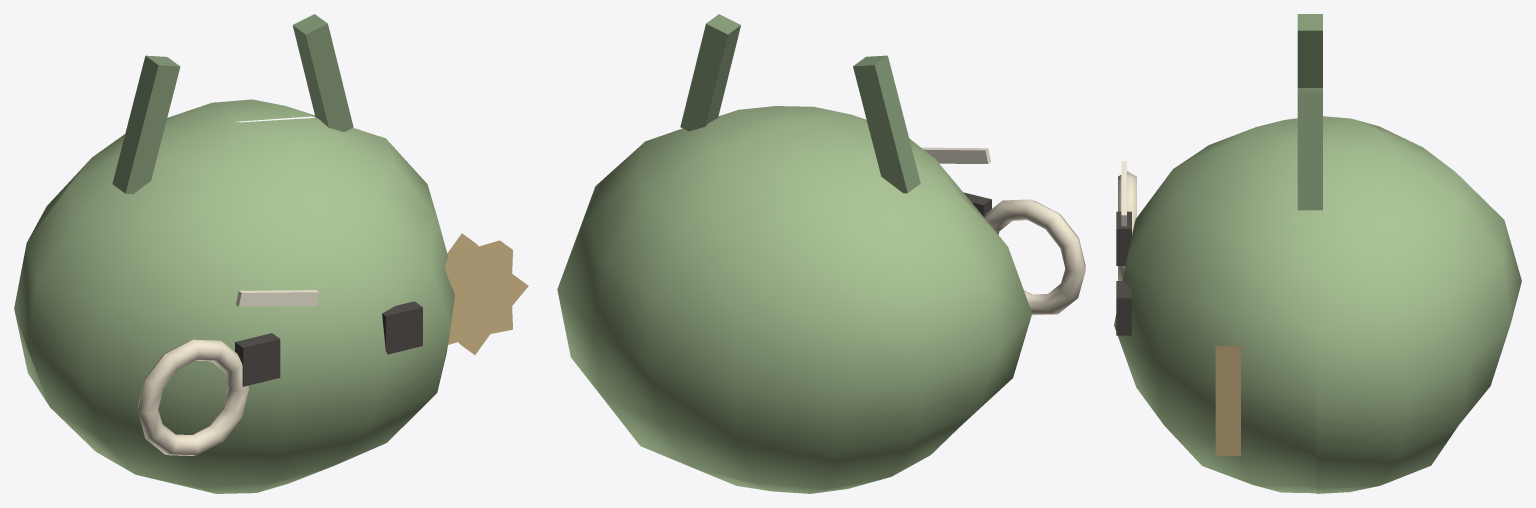
Rendered from mobile-clawd-gremlin.glb.
3 renders of one model, left to right at view 1: azimuth 30°, elevation 25°; view 2: azimuth 150°, elevation 25°; view 3: azimuth 270°, elevation 25°, orthographic. The views are drawn at different scales.
Visible parts, largest first — view 1: Body_Gremlin, Skill_RepoReader_Gear, Skill_ArticleXray_Lens, Antenna_Left, Antenna_Right, Eye_Left_Pixel, Eye_Right_Pixel, Clay_Fingerprint_Highlight; view 2: Body_Gremlin, Antenna_Left, Skill_ArticleXray_Lens, Antenna_Right, Clay_Fingerprint_Highlight; view 3: Body_Gremlin, Antenna_Right, Skill_RepoReader_Gear, Antenna_Left, Eye_Right_Pixel, Eye_Left_Pixel, Skill_ArticleXray_Lens.
Boxes of the visible parts, left/top/right/bottom form: Body_Gremlin: left=14, top=99, right=454, bottom=493; Skill_RepoReader_Gear: left=445, top=233, right=528, bottom=354; Skill_ArticleXray_Lens: left=138, top=339, right=248, bottom=455; Antenna_Left: left=112, top=55, right=180, bottom=193; Antenna_Right: left=292, top=14, right=353, bottom=131; Eye_Left_Pixel: left=235, top=333, right=280, bottom=386; Eye_Right_Pixel: left=382, top=301, right=422, bottom=354; Clay_Fingerprint_Highlight: left=236, top=290, right=319, bottom=306; Body_Gremlin: left=557, top=106, right=1032, bottom=493; Antenna_Left: left=853, top=55, right=920, bottom=193; Skill_ArticleXray_Lens: left=984, top=199, right=1085, bottom=315; Antenna_Right: left=680, top=14, right=740, bottom=131; Clay_Fingerprint_Highlight: left=921, top=147, right=990, bottom=163; Body_Gremlin: left=1114, top=116, right=1521, bottom=493; Antenna_Right: left=1297, top=88, right=1322, bottom=210; Skill_RepoReader_Gear: left=1215, top=346, right=1240, bottom=455; Antenna_Left: left=1297, top=14, right=1322, bottom=87; Eye_Right_Pixel: left=1116, top=281, right=1131, bottom=335; Eye_Left_Pixel: left=1116, top=211, right=1131, bottom=265; Skill_ArticleXray_Lens: left=1118, top=171, right=1136, bottom=280.
Size of the model in its own units: 1.58 by 1.46 by 1.29.
